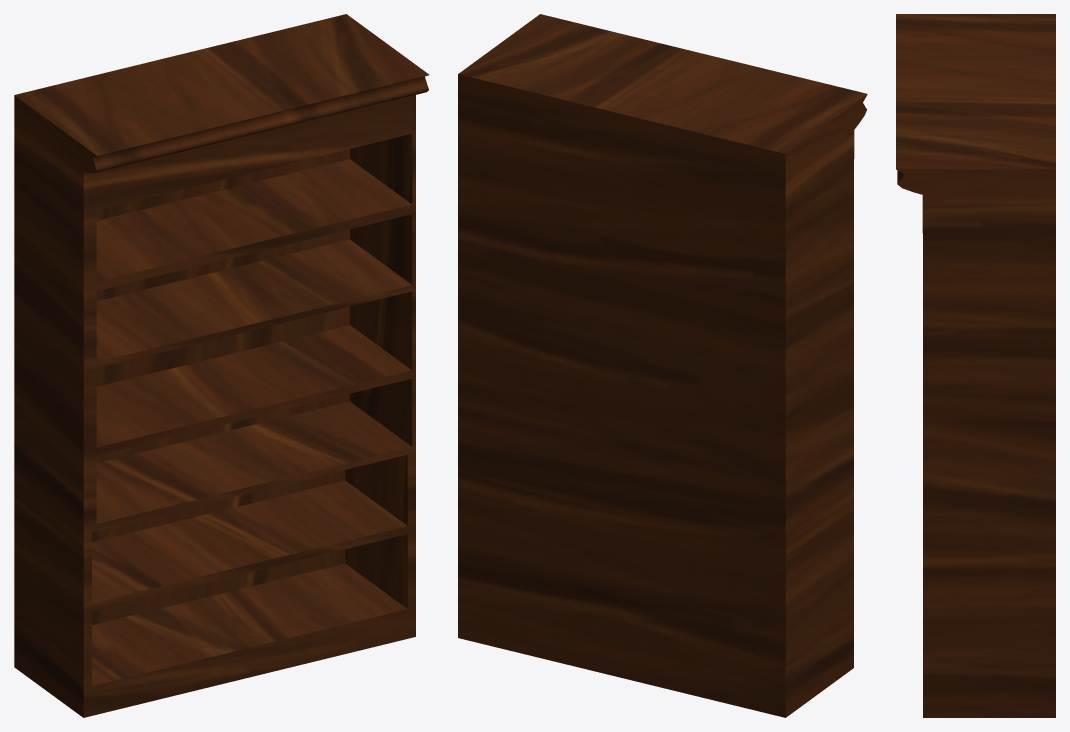
Rendered from Shelf_High.fbx.
3 views of the same model, side by side, from view 1: azimuth 30°, elevation 25°; view 2: azimuth 150°, elevation 25°; view 3: azimuth 270°, elevation 25° (orthographic). The views are drawn at different scales.
Visible parts, largest first — view 1: pCube2; view 2: pCube2; view 3: pCube2.
Part boxes in pixels (left/top/right/bottom): pCube2: left=14, top=14, right=429, bottom=717; pCube2: left=458, top=14, right=867, bottom=717; pCube2: left=896, top=14, right=1055, bottom=717.
Bounding box in the file's own units: 138 × 227 × 60.05.
